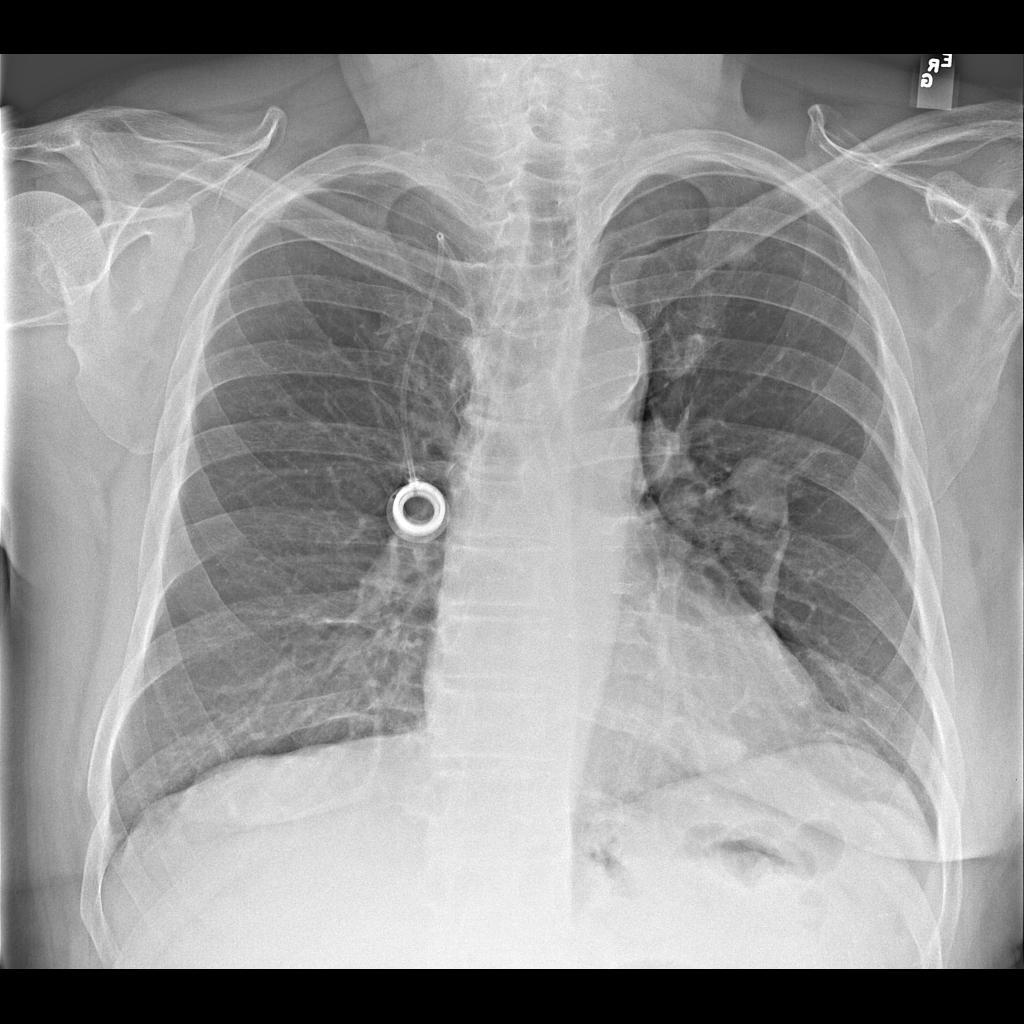Nodule: (730, 453, 799, 535), (719, 235, 765, 275)
